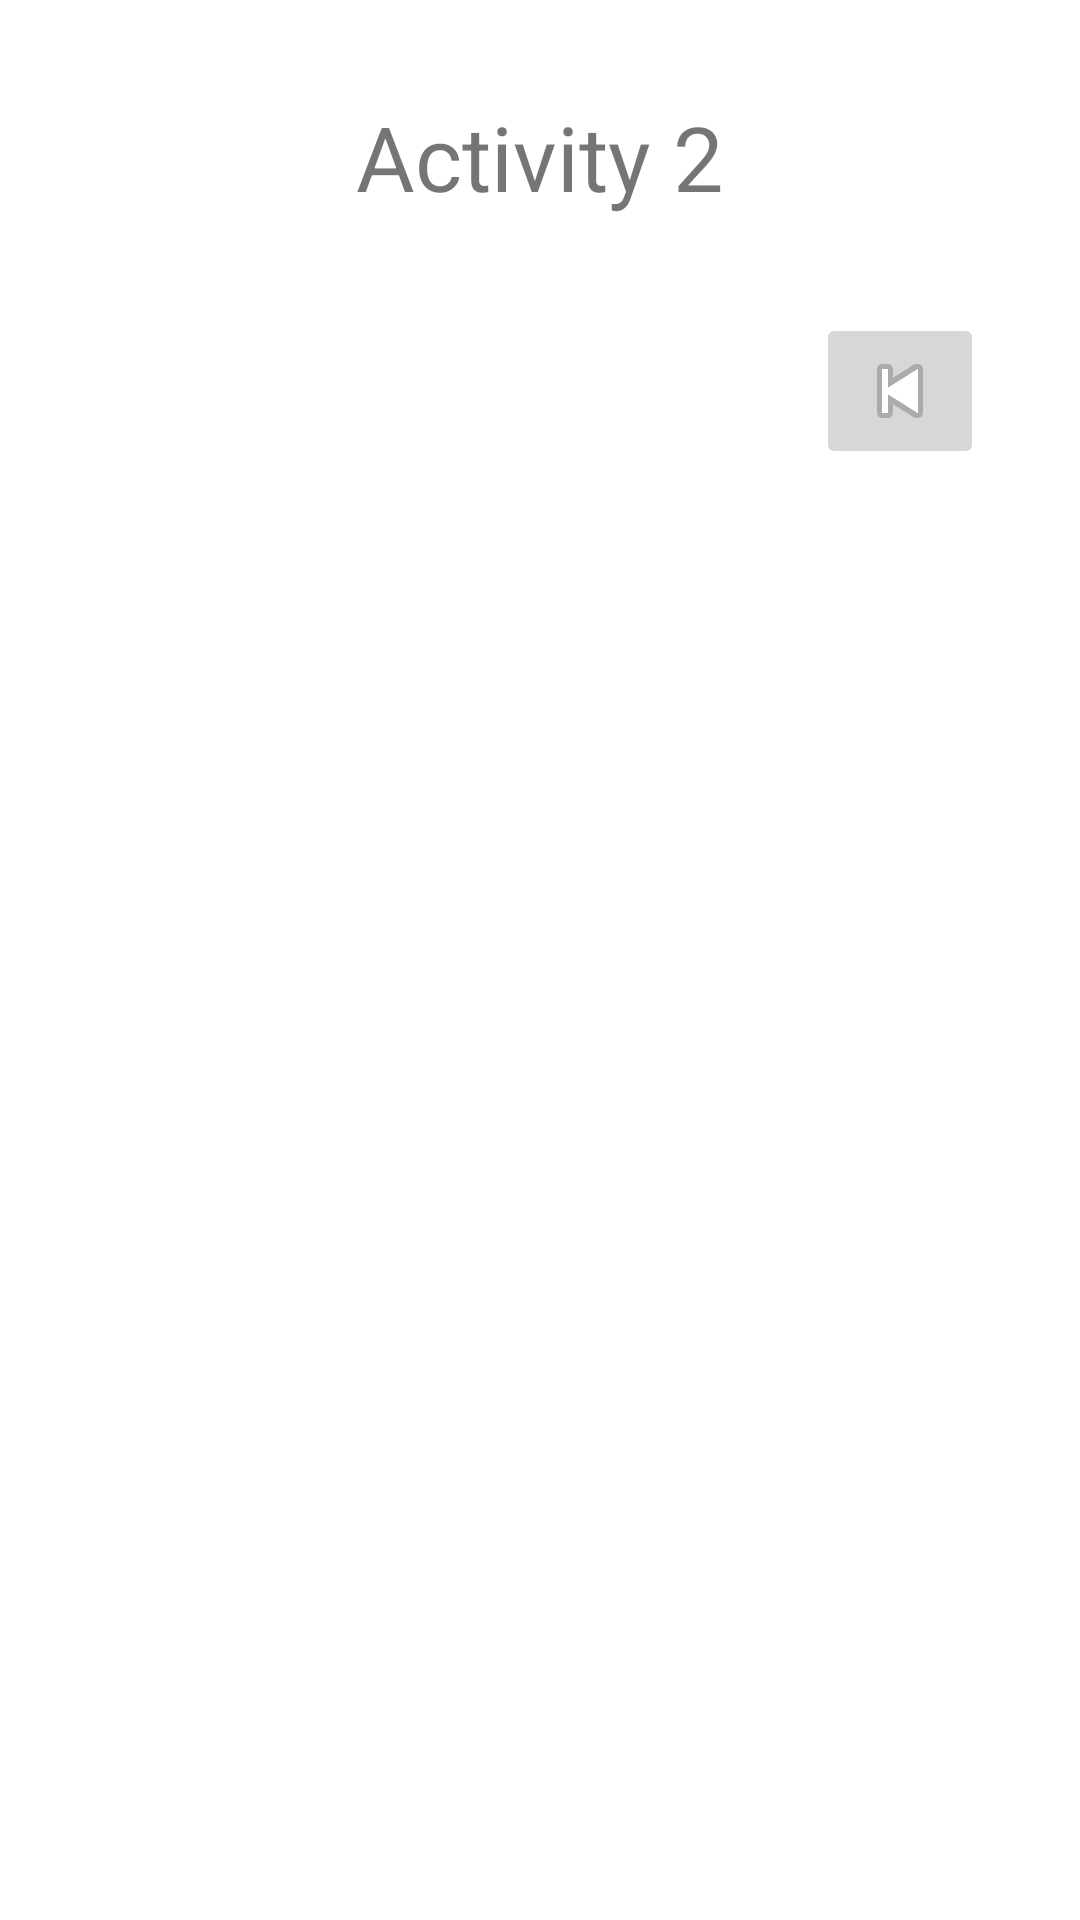

Screen size 1080*1920. Icon name, then its center in pixels as (x=x, y=y):
previous: (x=900, y=391)
